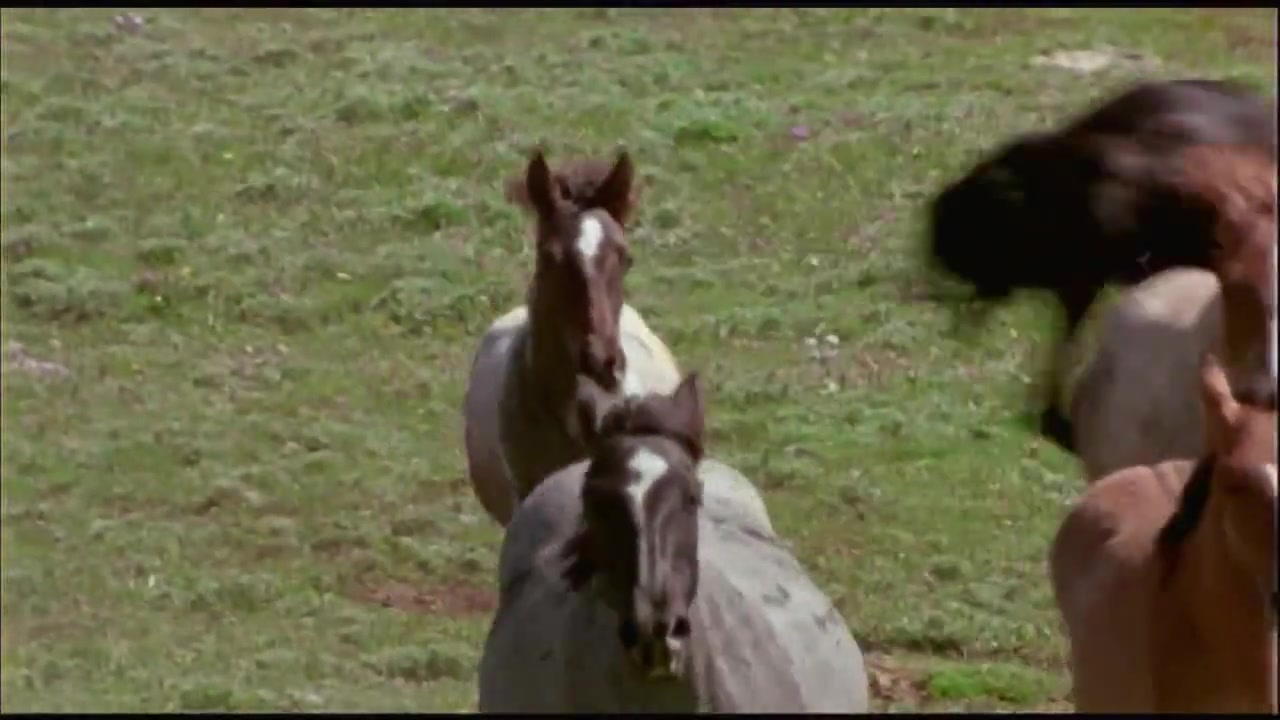horse: (476, 370, 871, 714)
